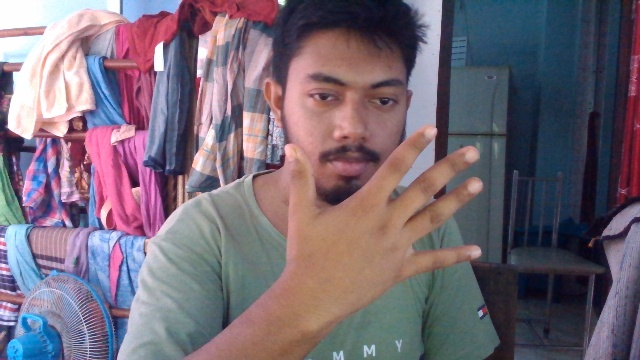hello: (278, 121, 482, 310)
